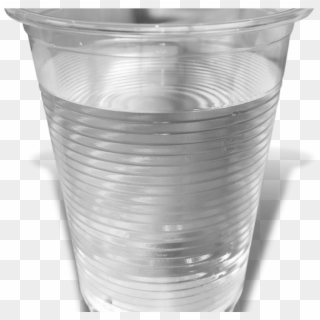plastic_glass: (2, 6, 314, 312)
